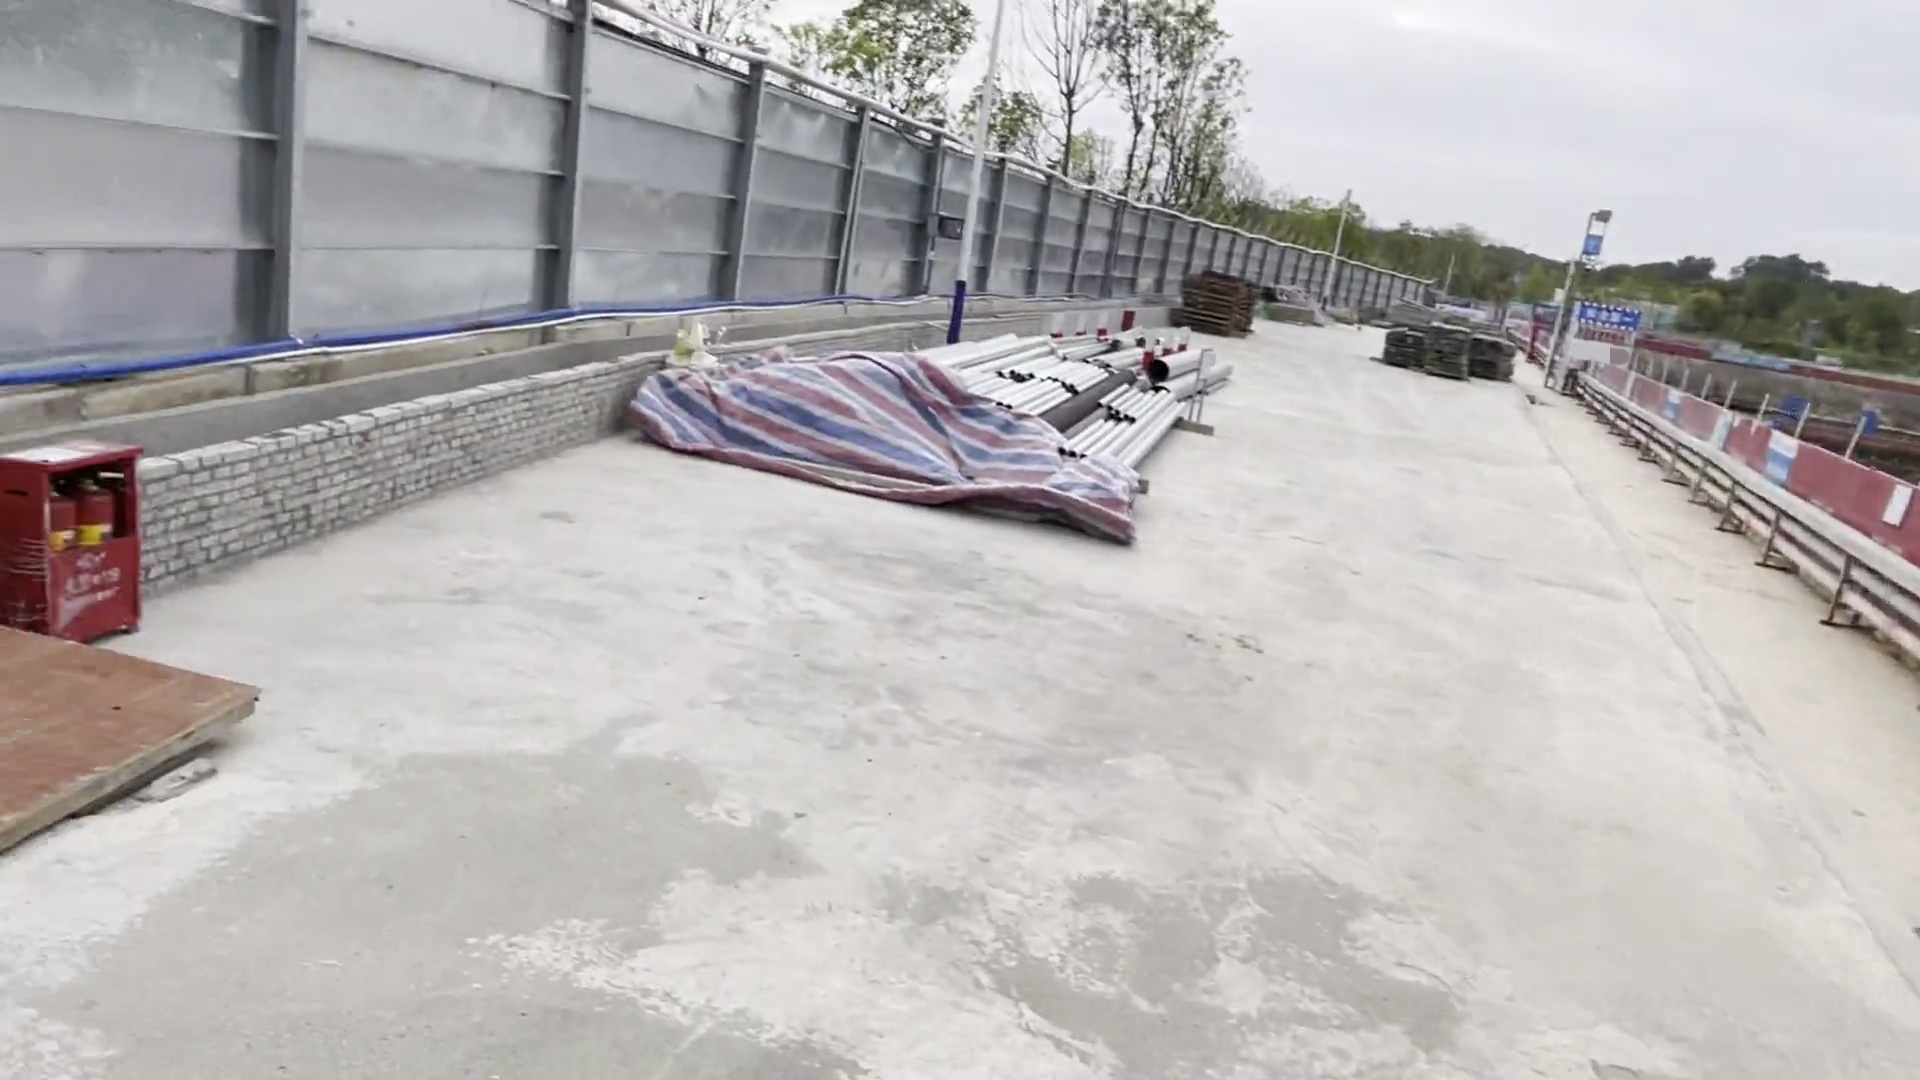brick: (145, 357, 626, 596), (717, 324, 939, 371)
fence: (1622, 372, 1913, 553)
slogan: (1758, 431, 1795, 488), (1717, 352, 1789, 372), (1575, 310, 1634, 324), (1658, 386, 1681, 419)
